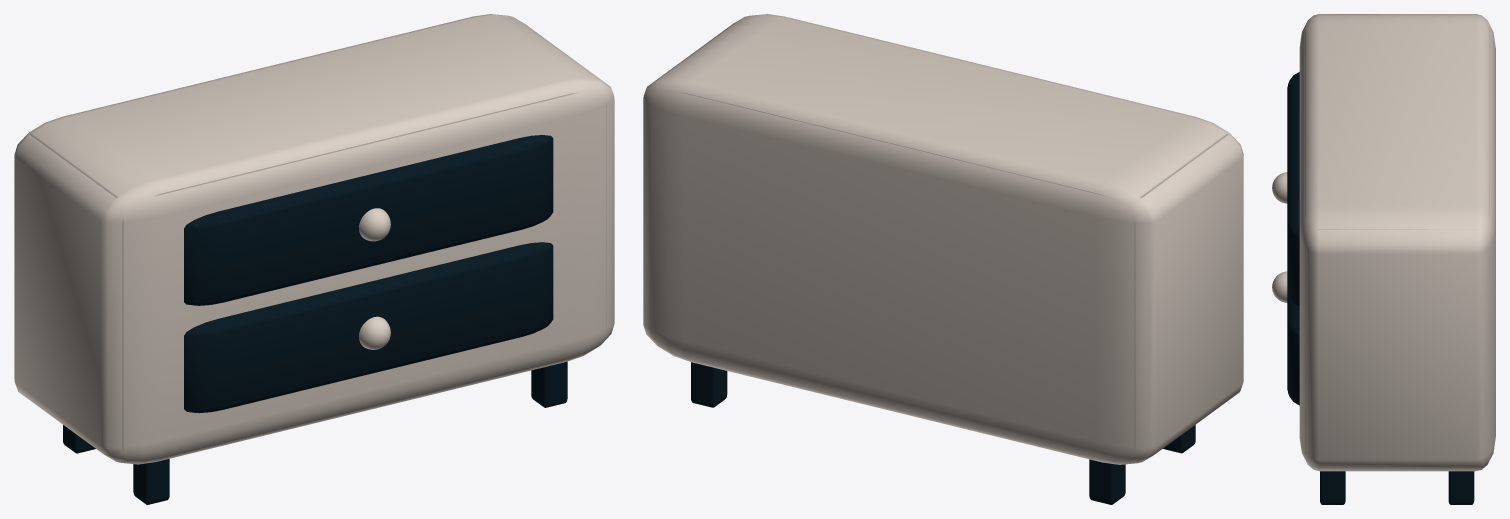
The model's file is Kommode.fbx.
The picture shows the model from 3 angles, left to right: view 1: azimuth 30°, elevation 25°; view 2: azimuth 150°, elevation 25°; view 3: azimuth 270°, elevation 25°; orthographic projection. The views are drawn at different scales.
Parts seen in each view (by area): view 1: Kommode, ObereSchublade, UntereSchublade, Fuß1, Fuß2, Knopfoben, Knopfunten; view 2: Kommode, Fuß4, Fuß3; view 3: Kommode, ObereSchublade, UntereSchublade, Fuß3, Fuß2, Knopfoben, Knopfunten.
Part boxes in pixels (x1,y1,x2,y2): Kommode: (14,14,614,464); ObereSchublade: (184,135,553,305); UntereSchublade: (184,242,553,413); Fuß1: (133,459,169,504); Fuß2: (531,361,567,407); Knopfoben: (359,208,390,241); Knopfunten: (359,316,390,349); Kommode: (643,14,1243,464); Fuß4: (1089,459,1125,504); Fuß3: (691,362,727,407); Kommode: (1299,14,1495,471); ObereSchublade: (1287,72,1299,307); UntereSchublade: (1287,292,1299,405); Fuß3: (1448,471,1474,504); Fuß2: (1320,471,1345,504); Knopfoben: (1272,172,1287,203); Knopfunten: (1272,271,1287,302).
Size of the model in its own units: 552 by 334 by 228.
1 material, 1 textured.
